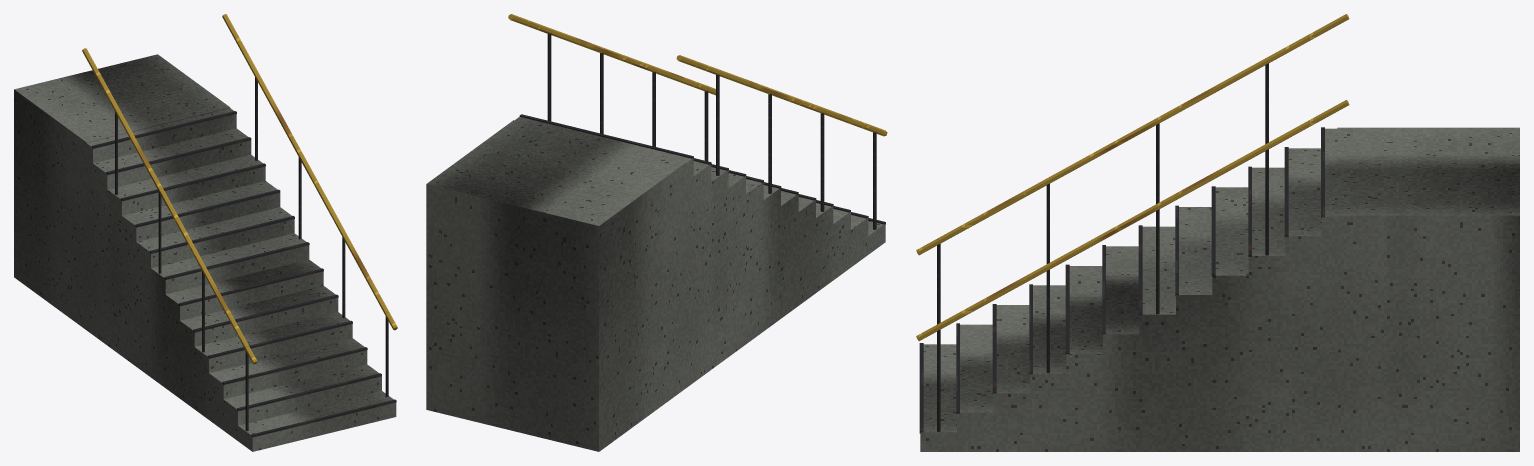
The model's file is concrete_stairs.glb.
The picture shows the model from 3 angles, left to right: view 1: azimuth 30°, elevation 25°; view 2: azimuth 150°, elevation 25°; view 3: azimuth 270°, elevation 25°; orthographic projection. The views are drawn at different scales.
Parts seen in each view (by area): view 1: concrete_stairs; view 2: concrete_stairs; view 3: concrete_stairs.
Part boxes in pixels (box(x1,y1,x2,y2)): concrete_stairs: box(14, 14, 397, 451); concrete_stairs: box(426, 14, 887, 451); concrete_stairs: box(916, 14, 1519, 451).
Size of what is drawn, in the model's own units: 1.6 by 2.97 by 4.63.
3 materials, 3 textured.
